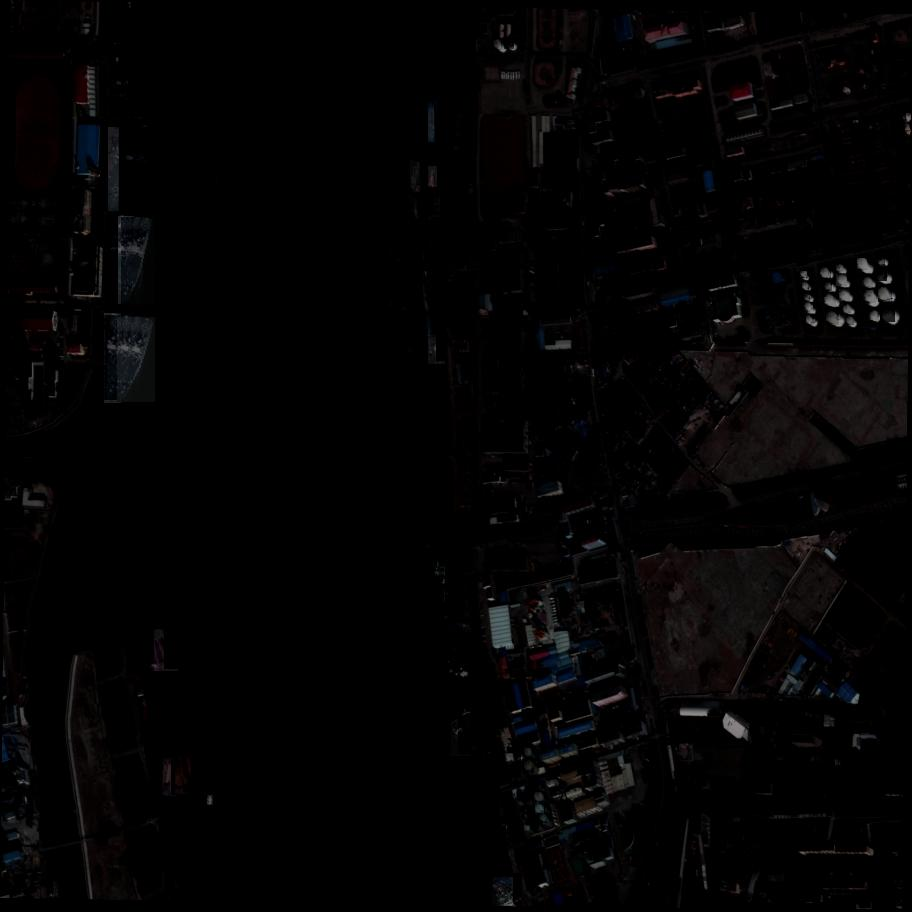ship: (392, 219, 423, 358), (119, 127, 162, 212), (422, 536, 466, 616), (109, 127, 150, 212), (117, 317, 156, 404), (105, 316, 144, 402), (121, 218, 157, 307), (100, 126, 136, 212), (127, 27, 158, 117), (120, 27, 144, 117), (442, 632, 479, 687), (110, 26, 132, 117), (105, 214, 126, 302), (462, 770, 497, 819), (472, 764, 503, 817), (105, 313, 123, 403), (118, 216, 134, 305), (125, 633, 154, 676), (445, 543, 462, 615), (265, 677, 294, 719), (152, 753, 173, 809), (154, 629, 180, 673), (459, 708, 483, 754), (451, 719, 473, 756), (165, 631, 185, 670), (491, 876, 515, 908), (165, 860, 187, 893), (175, 756, 194, 794), (503, 873, 523, 906), (152, 632, 168, 672), (444, 640, 459, 682), (183, 749, 197, 792), (146, 625, 158, 675), (428, 335, 446, 366), (148, 762, 161, 803), (140, 632, 152, 676), (164, 757, 177, 797), (491, 816, 508, 846), (435, 106, 447, 147), (127, 629, 136, 682), (31, 714, 42, 755), (421, 102, 435, 134), (141, 697, 151, 741), (429, 101, 439, 143), (171, 757, 182, 795), (214, 155, 225, 192), (410, 159, 422, 192), (191, 750, 201, 785), (164, 865, 175, 896), (446, 121, 459, 146), (443, 113, 452, 147), (437, 337, 448, 362), (432, 196, 444, 218), (150, 700, 157, 736), (183, 2, 191, 32), (429, 167, 438, 188), (431, 197, 440, 218), (69, 813, 76, 836), (57, 881, 63, 900), (53, 882, 58, 897), (207, 796, 213, 806), (430, 197, 433, 217)
storage-tank: (880, 304, 896, 323), (879, 287, 894, 303), (508, 764, 523, 779), (826, 310, 840, 326), (875, 267, 888, 282), (522, 759, 535, 774), (863, 290, 876, 304), (894, 27, 907, 41), (824, 293, 836, 307), (862, 275, 874, 289), (529, 781, 541, 794), (836, 275, 848, 287), (839, 290, 851, 302), (869, 309, 880, 322), (822, 279, 833, 291), (536, 803, 547, 815), (821, 267, 831, 279), (534, 792, 544, 803), (504, 39, 514, 49), (876, 255, 885, 266), (835, 263, 844, 273), (858, 259, 867, 269), (803, 292, 812, 302), (524, 790, 533, 799), (528, 806, 537, 815), (804, 303, 813, 312), (856, 50, 864, 60), (858, 66, 866, 75), (892, 50, 900, 59), (526, 798, 534, 807), (539, 813, 547, 822), (896, 65, 903, 75), (495, 40, 502, 50), (846, 317, 854, 325), (531, 822, 539, 830), (506, 754, 514, 762), (844, 304, 851, 313), (837, 55, 844, 63), (800, 271, 808, 278), (867, 121, 873, 130), (515, 752, 521, 761), (525, 748, 531, 757), (802, 281, 808, 290), (807, 315, 813, 324), (524, 825, 531, 832), (875, 119, 881, 127), (906, 113, 911, 122), (905, 124, 911, 131), (824, 60, 830, 67), (522, 819, 529, 825), (531, 814, 537, 821), (517, 794, 522, 800), (520, 806, 525, 812), (854, 84, 858, 91), (844, 87, 848, 93), (863, 82, 867, 88), (851, 76, 856, 80), (519, 801, 523, 805), (521, 813, 524, 818), (563, 797, 566, 801)
